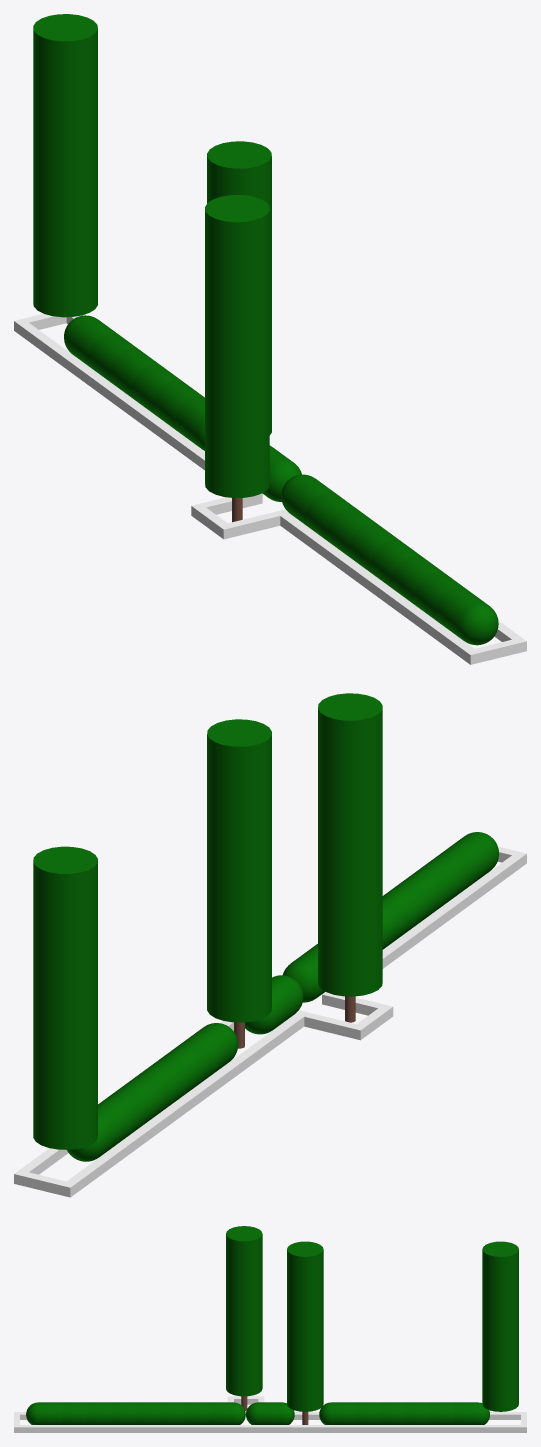
File: StreetFoilages_1.fbx
3 renders of one model, top to bottom at view 1: azimuth 30°, elevation 25°; view 2: azimuth 150°, elevation 25°; view 3: azimuth 270°, elevation 25°, orthographic. The views are drawn at different scales.
Parts seen in each view (by area): view 1: Tree__1_, Tree__3_, Tree__5_, BuildingBorer__9_, BuildingBorer__3_, Bush__26_, Bush__9_, Bush, Bush__25_, Bush__15_, Bush__1_, Bush__4_ (+10 smaller); view 2: Tree__5_, Tree__3_, Tree__1_, BuildingBorer__3_, BuildingBorer__9_, Bush__8_, Bush, Bush__5_, Bush__26_, Bush__4_, Bush__25_, Bush__24_ (+10 smaller); view 3: Tree__1_, Tree__5_, Tree__3_, BuildingBorer__4_, Bush__8_, Bush__26_, Bush__9_, Bush__5_, Bush, Bush__4_, Bush__13_, Bush__2_ (+8 smaller).
Part boxes in pixels (x1,y1,x2,y2): Tree__1_: (33, 14, 97, 317); Tree__3_: (205, 195, 269, 497); Tree__5_: (207, 141, 271, 435); BuildingBorer__9_: (275, 509, 479, 664); BuildingBorer__3_: (14, 318, 262, 505); Bush__26_: (436, 587, 498, 645); Bush__9_: (281, 474, 335, 528); Bush: (64, 315, 118, 369); Bush__25_: (414, 571, 465, 624); Bush__15_: (349, 524, 401, 576); Bush__1_: (88, 333, 140, 384); Bush__4_: (153, 380, 204, 433); Tree__5_: (207, 719, 271, 1022); Tree__3_: (318, 693, 382, 996); Tree__1_: (33, 846, 97, 1149); BuildingBorer__3_: (61, 1010, 308, 1197); BuildingBorer__9_: (322, 851, 526, 1006); Bush__8_: (245, 975, 303, 1034); Bush: (67, 1104, 126, 1161); Bush__5_: (184, 1023, 238, 1076); Bush__26_: (445, 832, 498, 885); Bush__4_: (162, 1040, 213, 1091); Bush__25_: (423, 849, 474, 902); Bush__24_: (401, 865, 452, 917); Tree__1_: (482, 1241, 518, 1411); Tree__5_: (287, 1241, 323, 1411); Tree__3_: (226, 1226, 262, 1396); BuildingBorer__4_: (14, 1425, 526, 1432); Bush__8_: (246, 1402, 294, 1424); Bush__26_: (26, 1402, 62, 1424); Bush__9_: (209, 1402, 245, 1424); Bush__5_: (319, 1402, 355, 1424); Bush: (453, 1402, 489, 1424); Bush__4_: (355, 1402, 380, 1424); Bush__13_: (184, 1402, 209, 1424); Bush__2_: (404, 1402, 428, 1424).
Size of the model in its own units: 300 by 797 by 2100.
